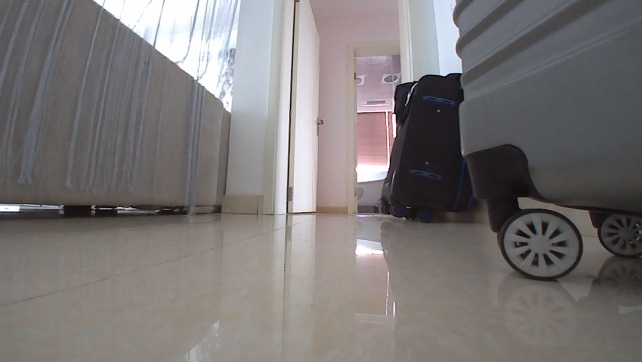door_anno: (271, 0, 323, 218)
